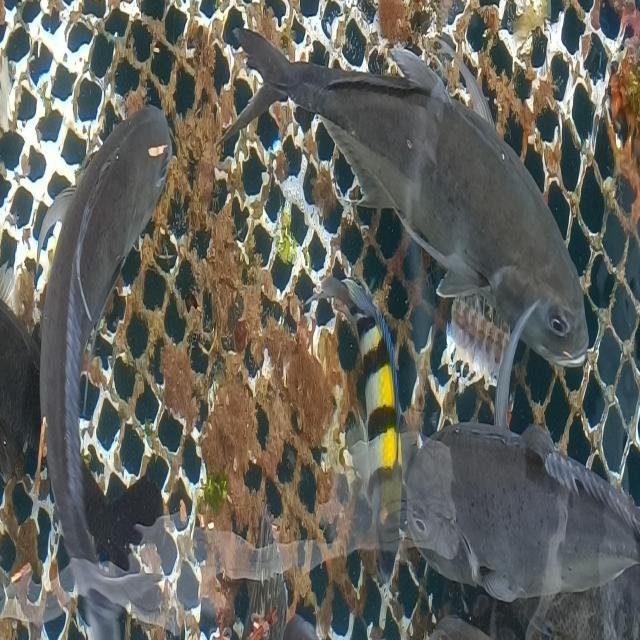ikan: (230, 21, 608, 378), (26, 87, 195, 624), (392, 397, 628, 628)
